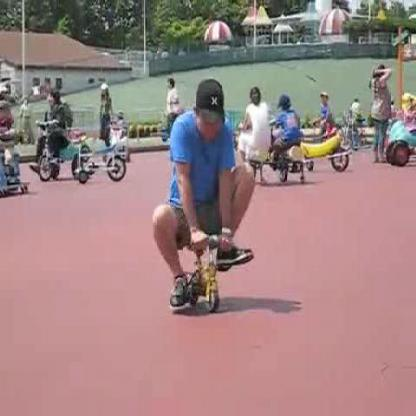other: (296, 126, 355, 168), (196, 238, 229, 298)
